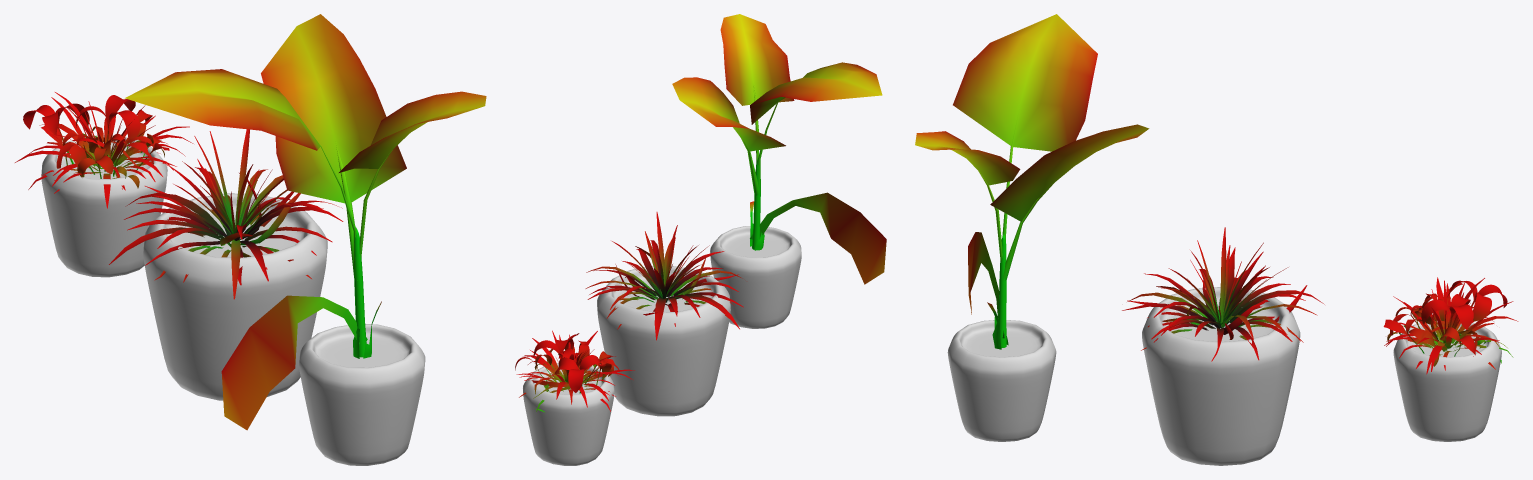
File: mdl_Plants_New.fbx
3 renders of one model, left to right at view 1: azimuth 30°, elevation 25°; view 2: azimuth 150°, elevation 25°; view 3: azimuth 270°, elevation 25°, orthographic. The views are drawn at different scales.
Parts seen in each view (by area): view 1: Plant_01, Plant_02, Plant_03; view 2: Plant_01, Plant_02, Plant_03; view 3: Plant_01, Plant_02, Plant_03.
Part boxes in pixels (x1,y1,x2,y2): Plant_01: [125, 14, 486, 465]; Plant_02: [109, 129, 343, 400]; Plant_03: [15, 92, 193, 277]; Plant_01: [672, 14, 886, 328]; Plant_02: [585, 212, 743, 416]; Plant_03: [515, 330, 634, 465]; Plant_01: [915, 14, 1149, 441]; Plant_02: [1122, 227, 1324, 465]; Plant_03: [1383, 277, 1518, 441].
Bounding box in the file's own units: 83.74 × 105 × 164.
